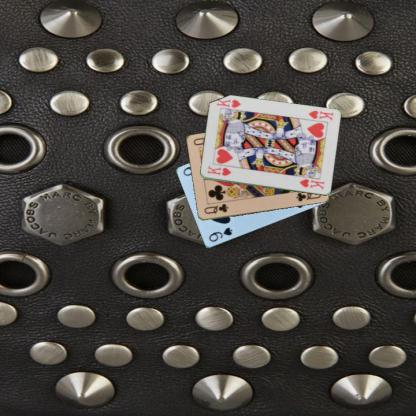9s: (206, 225, 234, 243)
Kh: (306, 108, 334, 122), (205, 164, 232, 178)
Qc: (202, 202, 229, 216)
